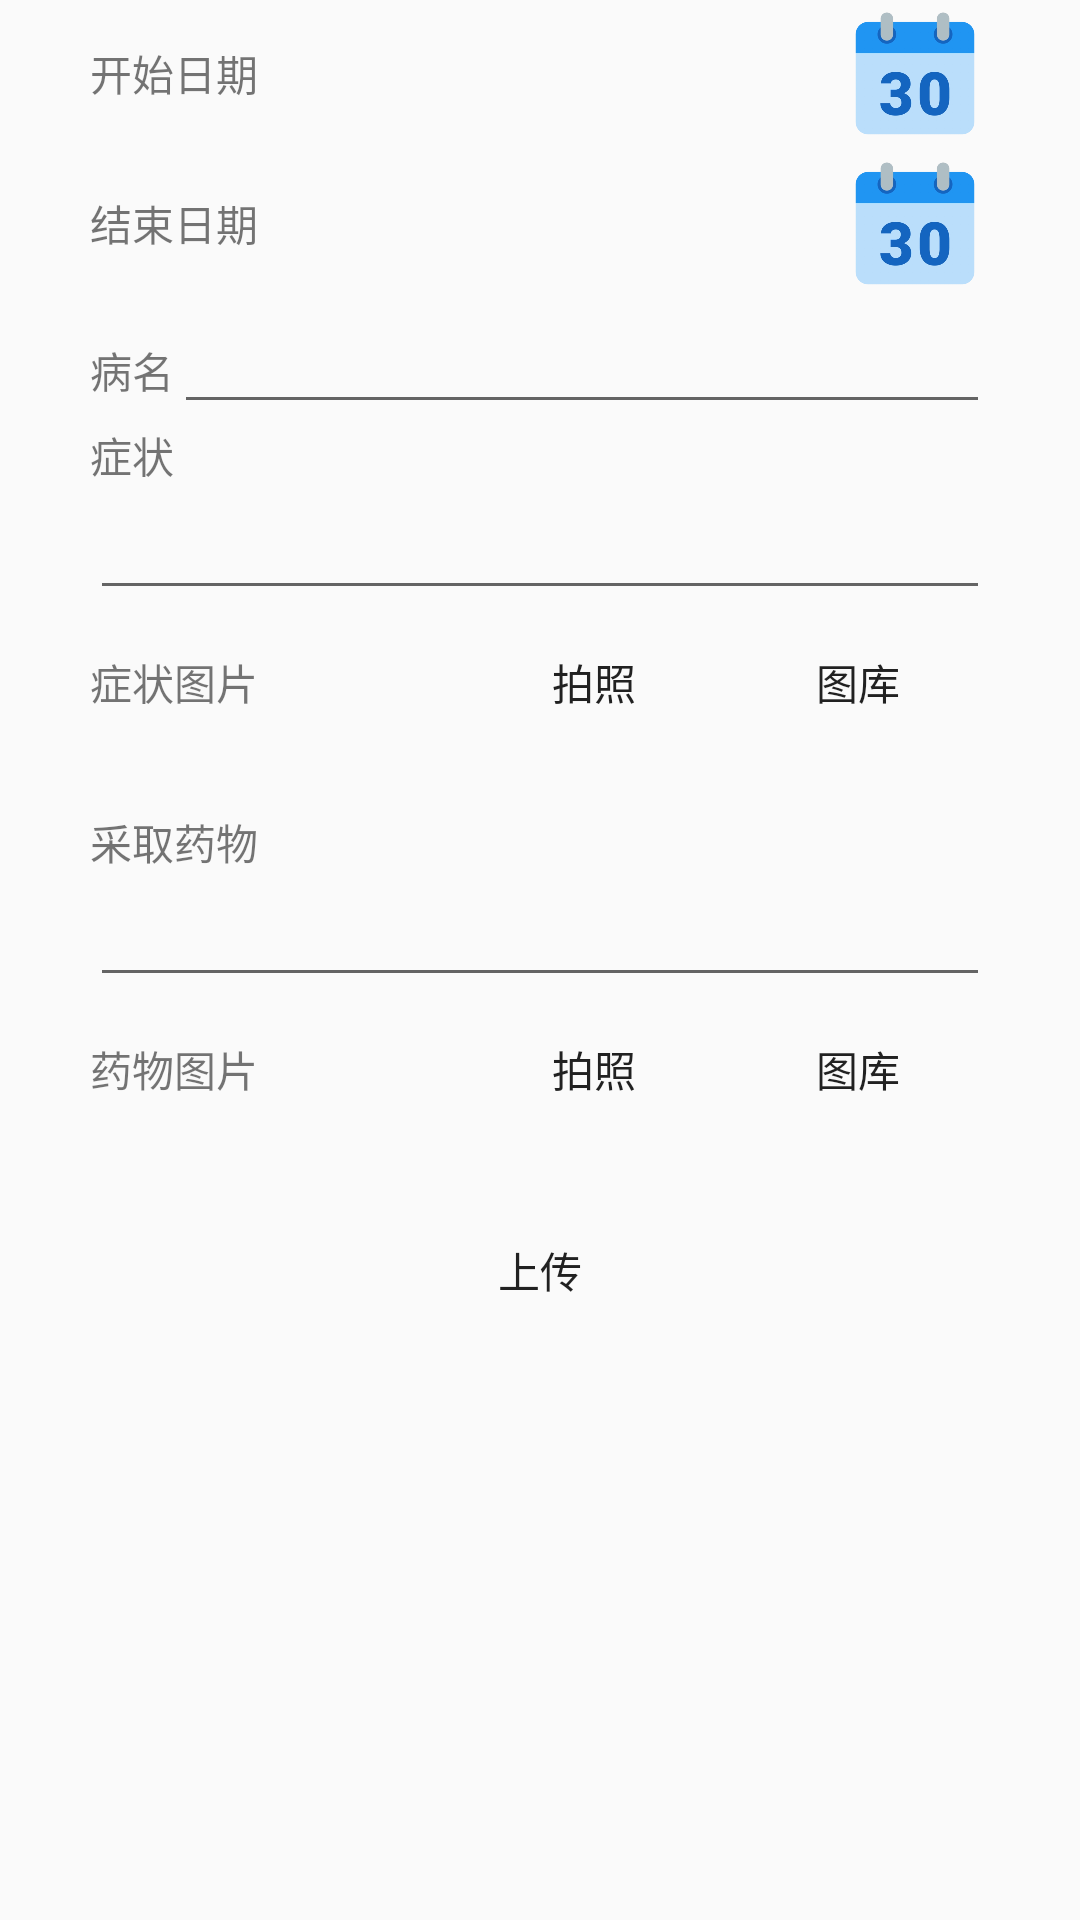

Icons on this 1080 x 1920 Android screen, each with its box as (x1, y1, x2, y2):
calendar: (855, 12, 975, 134), (855, 162, 975, 284)
